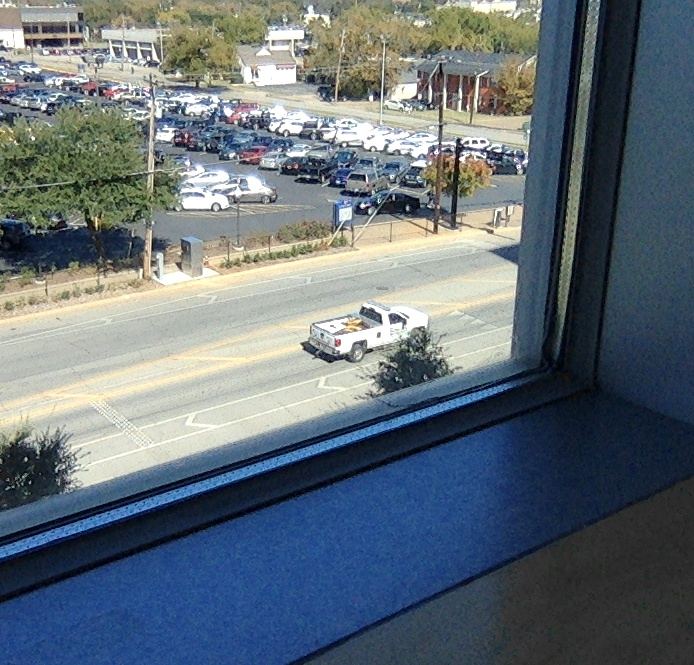car: (300, 300, 394, 365)
